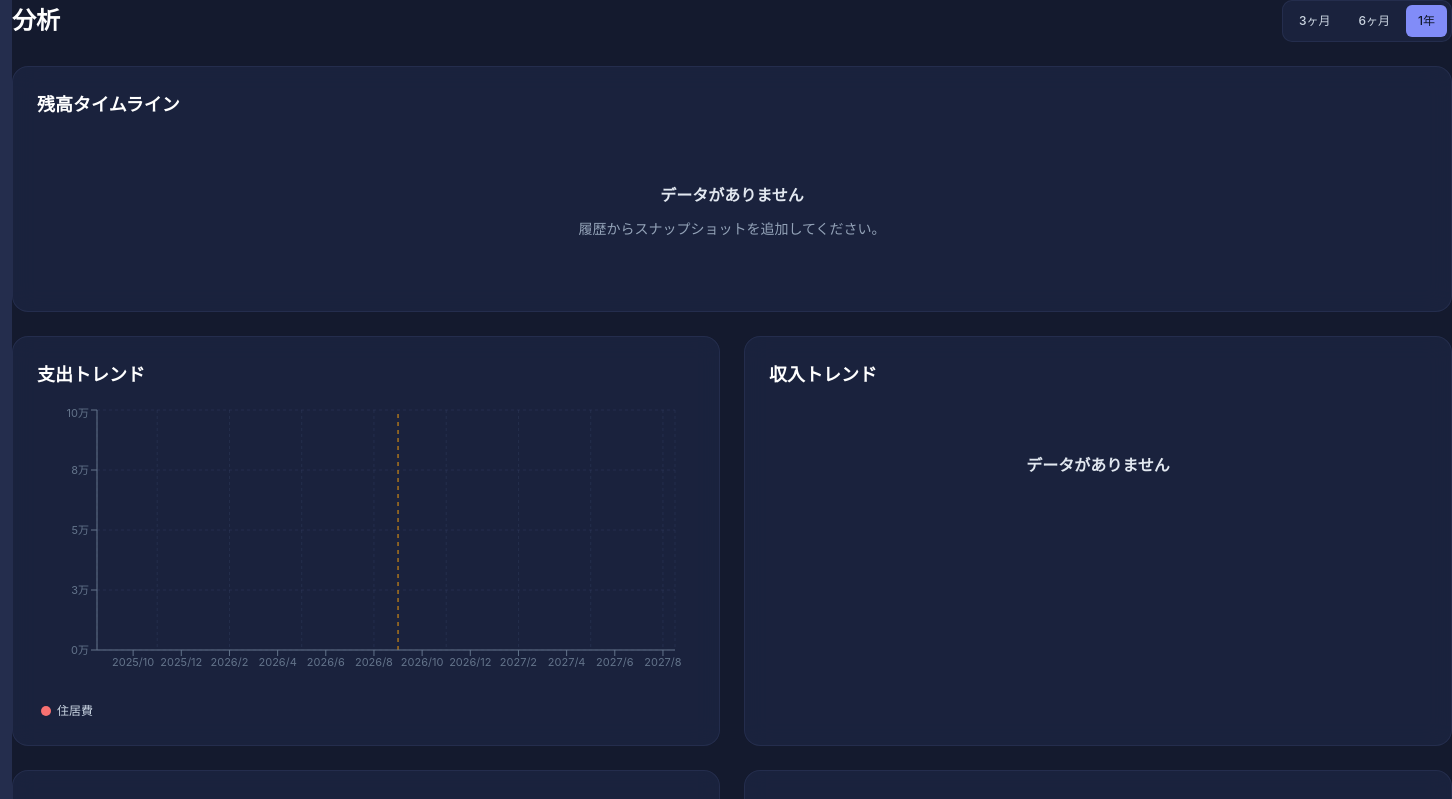
Scenario: the span › clears the drilled-into month when it changes
Step 1. Click the tab "3ヶ月" → click(1315, 21), box [1287,5,1342,37]
(page scrolled)
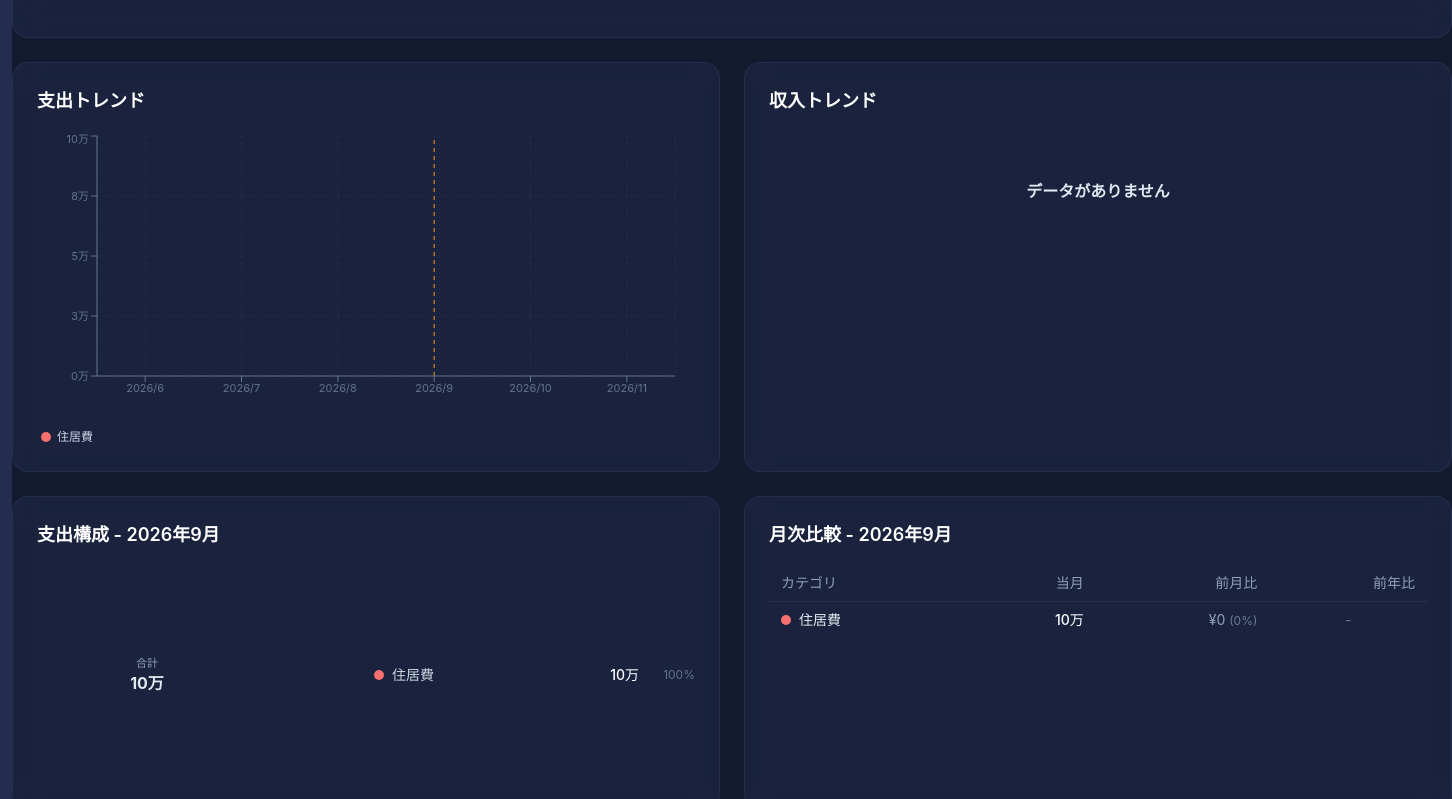
Now the heading "支出構成 - 2026年9月" is shown, box [37,524,220,545]
